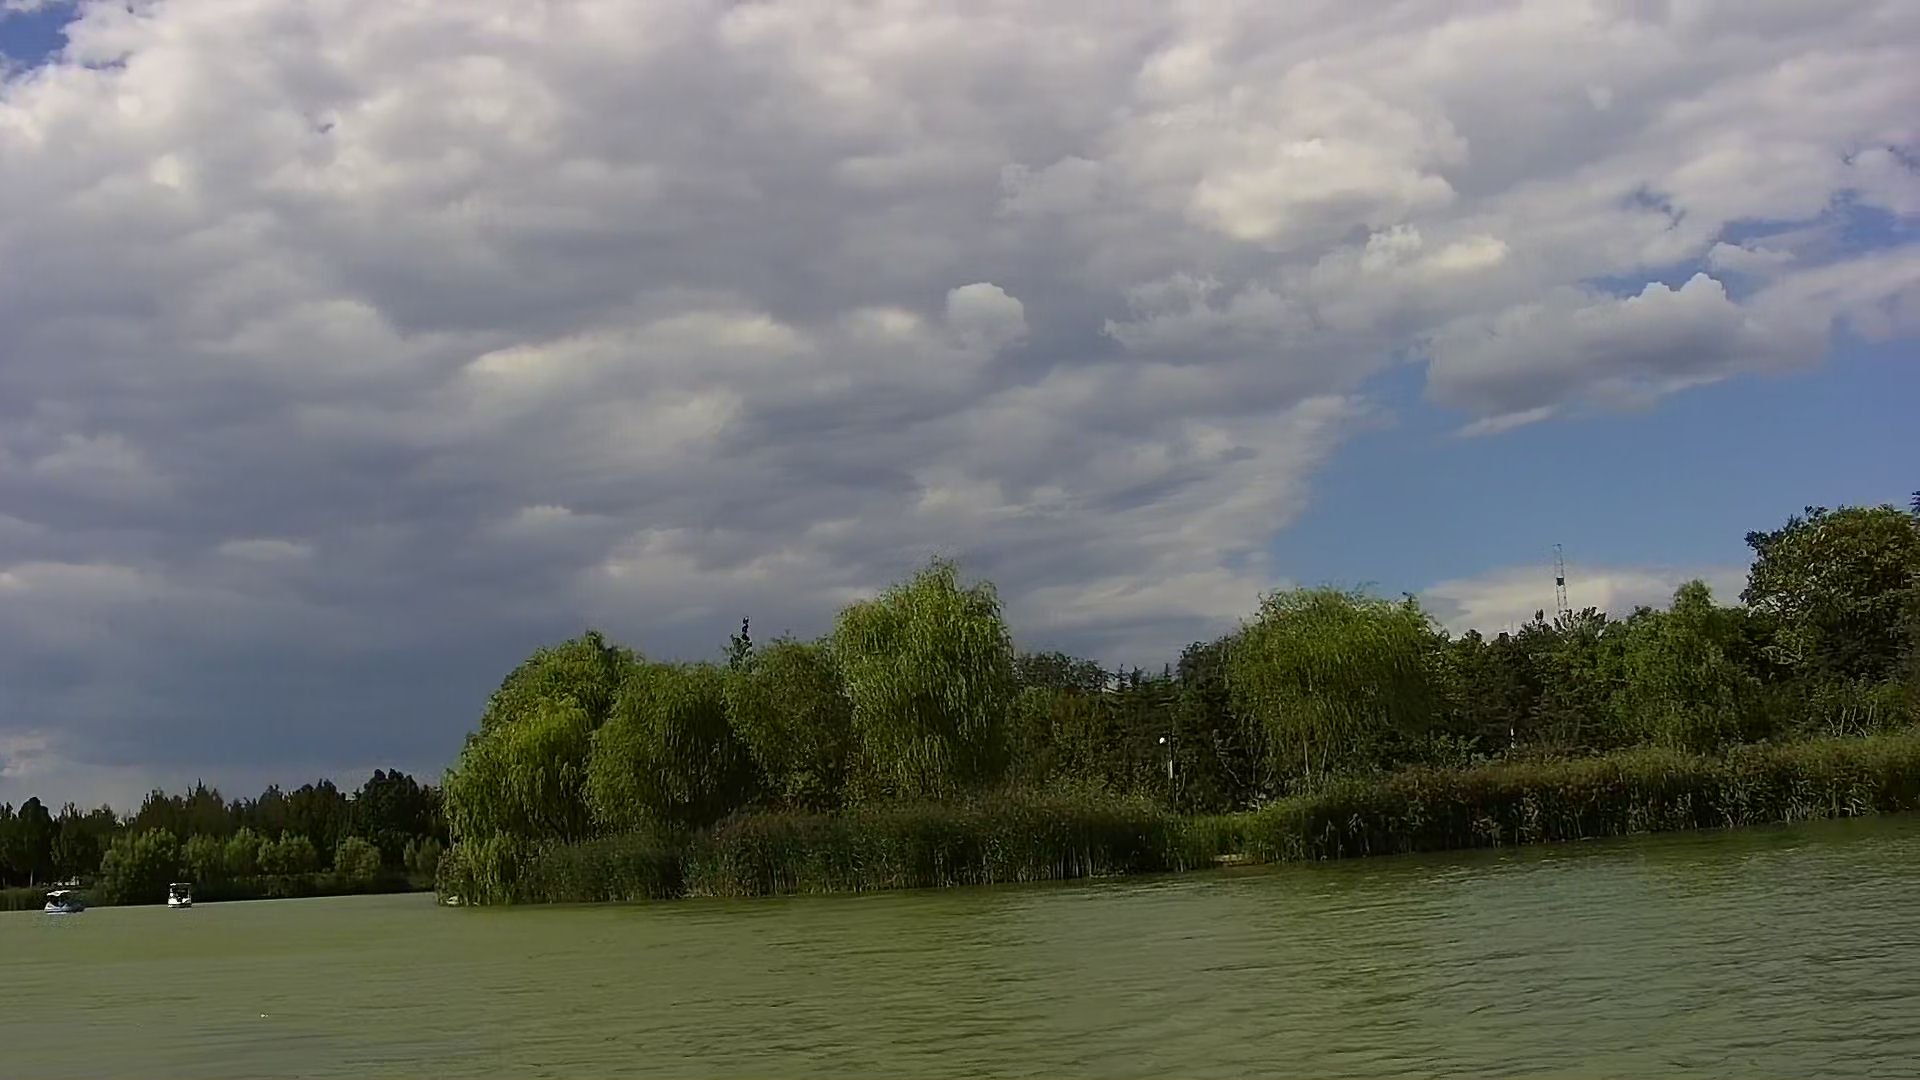boat: (40, 887, 90, 916), (166, 882, 200, 911)
